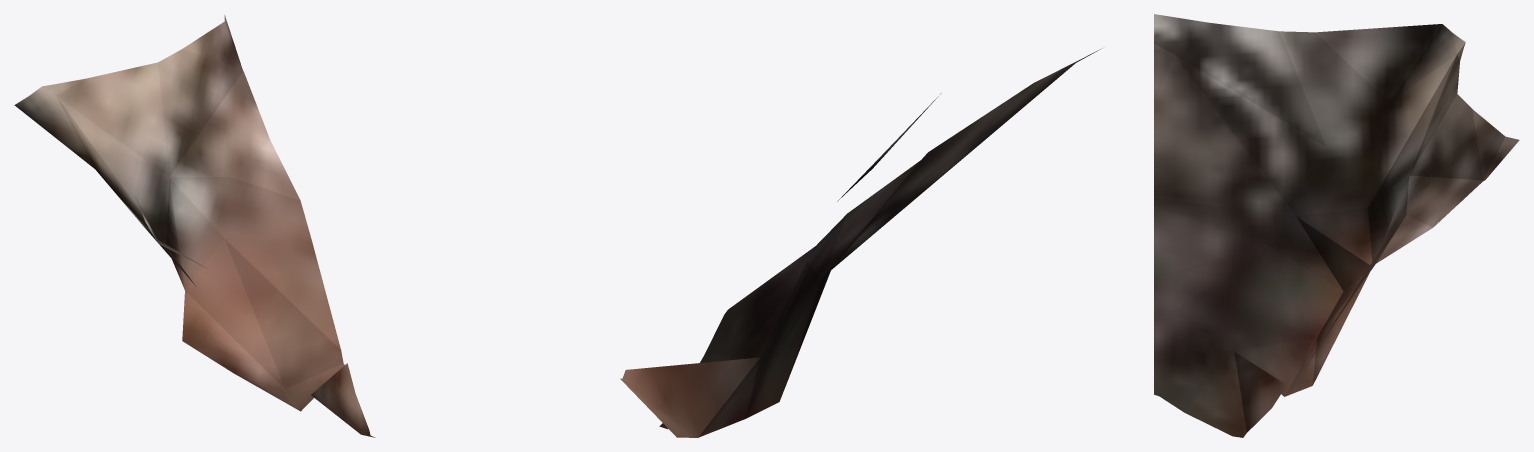
3 views of the same model, side by side, from view 1: azimuth 30°, elevation 25°; view 2: azimuth 150°, elevation 25°; view 3: azimuth 270°, elevation 25° (orthographic). The views are drawn at different scales.
Bounding box in the file's own units: 0.1082 × 0.1194 × 0.1328.
Materials: 1 (1 with a texture image).
